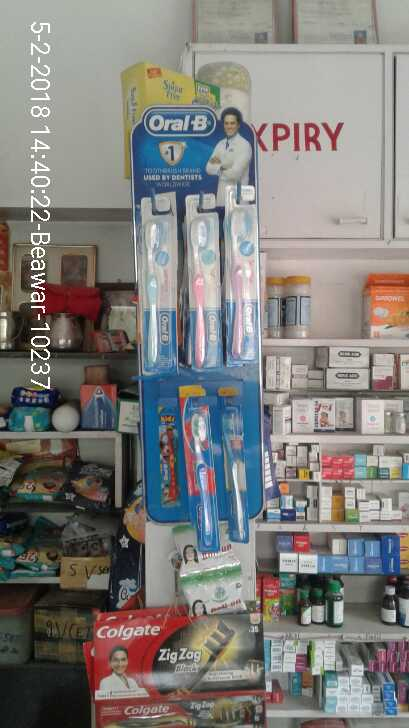oralb: (140, 204, 181, 388), (215, 378, 255, 541), (180, 196, 218, 364), (179, 392, 217, 557), (221, 188, 252, 365)
